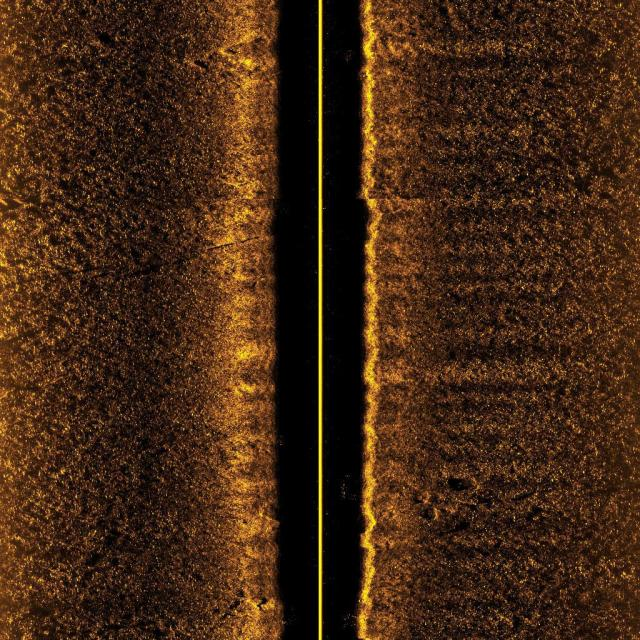mine: (240, 52, 258, 72)
